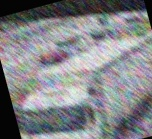truck: (0, 11, 152, 139)
